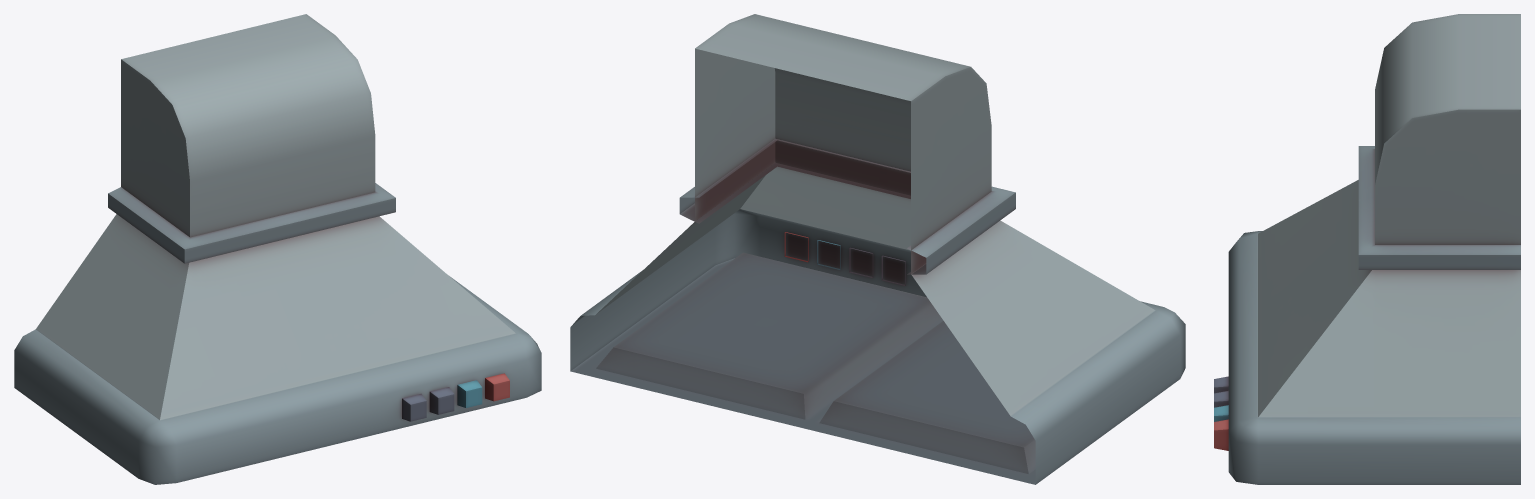
File: hood_01.fbx
The picture shows the model from 3 angles, left to right: view 1: azimuth 30°, elevation 25°; view 2: azimuth 150°, elevation 25°; view 3: azimuth 270°, elevation 25°; orthographic projection. The views are drawn at different scales.
Parts seen in each view (by area): view 1: hood_01_ready; view 2: hood_01_ready; view 3: hood_01_ready.
Part boxes in pixels (x1,y1,x2,y2): hood_01_ready: [14, 14, 541, 484]; hood_01_ready: [570, 14, 1185, 484]; hood_01_ready: [1214, 14, 1520, 484].
Bounding box in the file's own units: 100 × 72.57 × 63.03.
